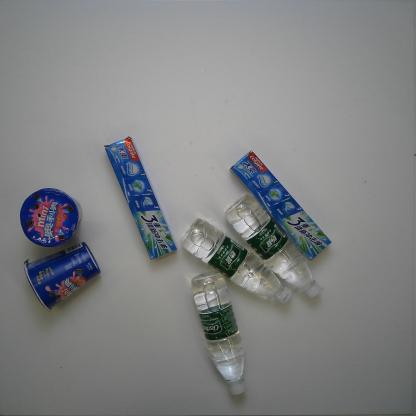Dessert: (25, 240, 102, 314), (16, 185, 86, 249)
Drink: (176, 214, 292, 308), (224, 192, 320, 302), (187, 270, 248, 396)
Personal Hygiene: (228, 149, 334, 261), (103, 135, 178, 260)
